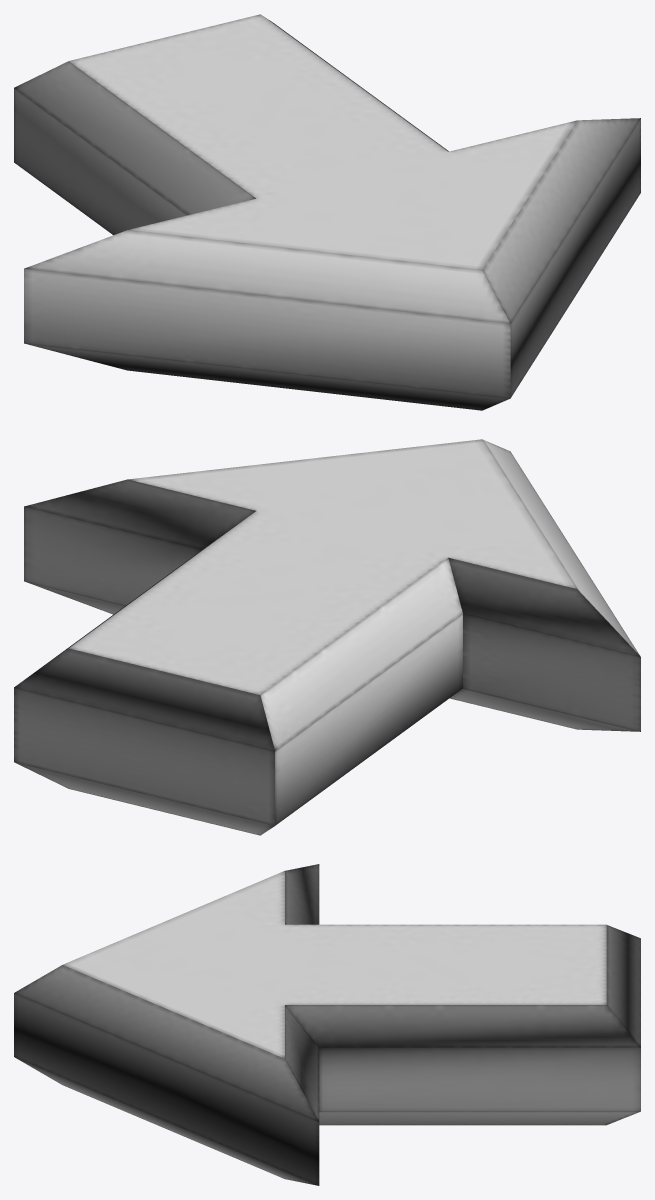
File: arrow.obj
3 views of the same model, one above another, from view 1: azimuth 30°, elevation 25°; view 2: azimuth 150°, elevation 25°; view 3: azimuth 270°, elevation 25° (orthographic). The views are drawn at different scales.
Parts seen in each view (by area): view 1: Rectangle001; view 2: Rectangle001; view 3: Rectangle001.
Boxes of the visible parts, x1,y1,x2,y2 form: Rectangle001: (14, 14, 640, 410); Rectangle001: (14, 439, 640, 835); Rectangle001: (14, 864, 640, 1185).
Bounding box in the file's own units: 0.9452 × 0.2056 × 0.971.
1 material, 1 textured.
